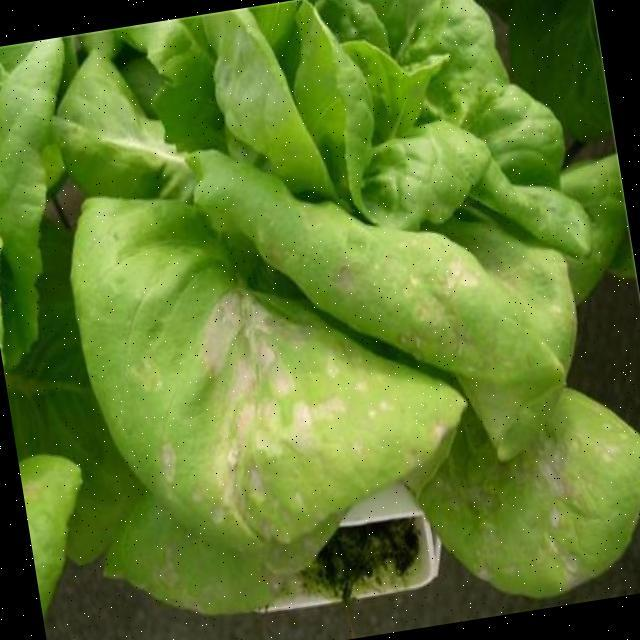Downy_Mildew: (53, 169, 567, 562)
